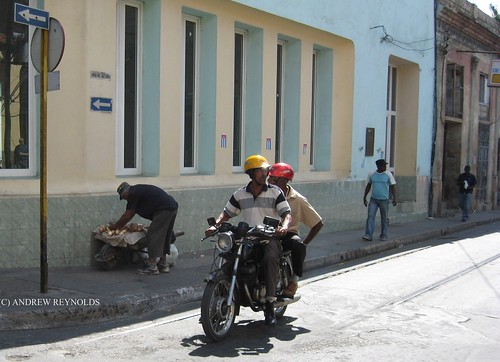helmet: (267, 160, 298, 175), (242, 152, 266, 168)
